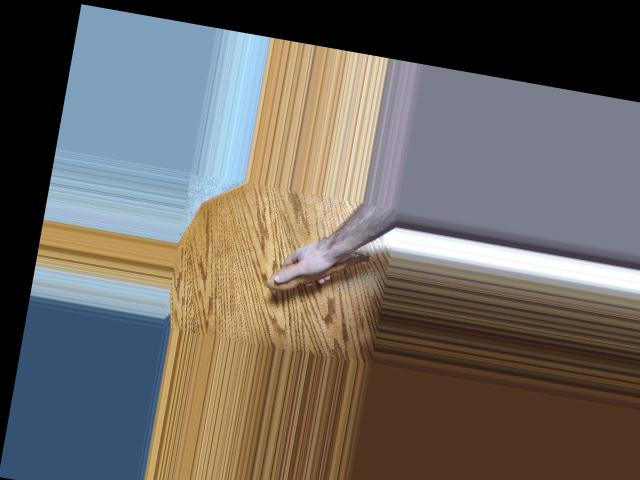sweet_potato: (270, 233, 374, 303)
